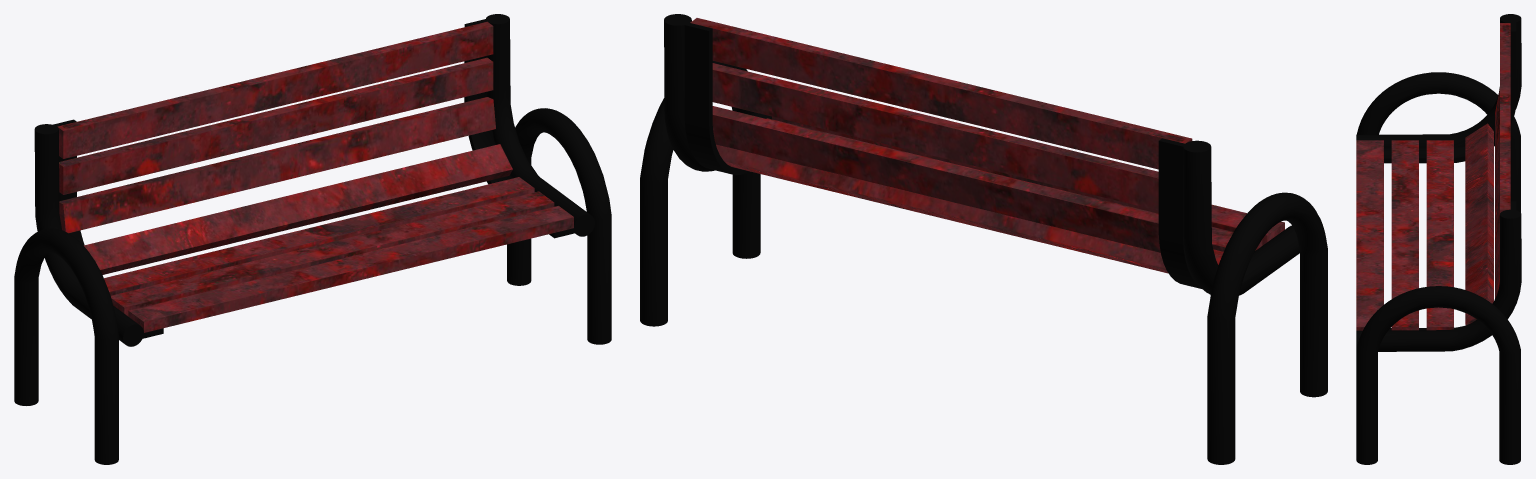
The picture shows the model from 3 angles, left to right: view 1: azimuth 30°, elevation 25°; view 2: azimuth 150°, elevation 25°; view 3: azimuth 270°, elevation 25°; orthographic projection. The views are drawn at different scales.
Visible parts, largest first — view 1: L rest, L handle kiri, L handle kanan, L support kanan, L support kiti; view 2: L rest, L handle kiri, L support kiti, L handle kanan, L support kanan; view 3: L rest, L handle kanan, L support kanan, L handle kiri, L support kiti.
Part boxes in pixels (box(x1,y1,x2,y2)): L rest: box(57, 21, 573, 332); L handle kiri: box(14, 228, 118, 464); L handle kanan: box(507, 108, 611, 344); L support kanan: box(464, 14, 594, 238); L support kiti: box(34, 119, 163, 346); L rest: box(690, 18, 1284, 273); L handle kiri: box(1207, 192, 1327, 464); L support kiti: box(1158, 138, 1299, 295); L handle kanan: box(640, 61, 760, 326); L support kanan: box(664, 14, 771, 175); L rest: box(1356, 23, 1510, 330); L handle kanan: box(1356, 286, 1520, 464); L support kanan: box(1356, 201, 1521, 351); L handle kiri: box(1356, 72, 1520, 212); L support kiti: box(1356, 14, 1521, 163).
Size of the model in its own units: 1.96 by 0.97 by 0.6123.
5 materials, 5 textured.
